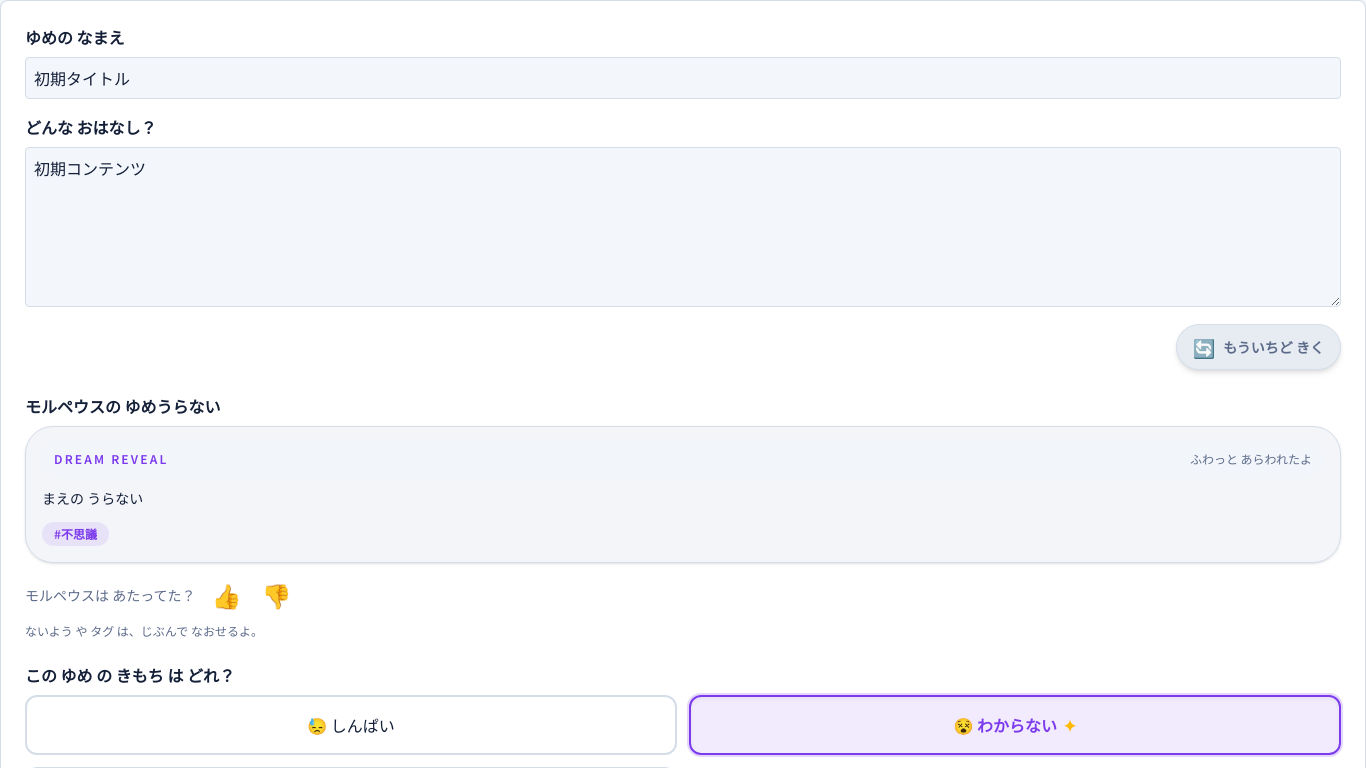
DreamForm › updates analysis text and emotion selection immediately after re-analysis in edit mode
The width and height of the screenshot is (1366, 768).
Expected: the text "まえの うらない" is shown, [42,488,143,508]
Expected: the checkbox labelled "😵 わからない" is checked, [689,695,1341,755]
Click the button "🔄 もういちど きく" at point(1258, 347), box [1176,324,1341,370]
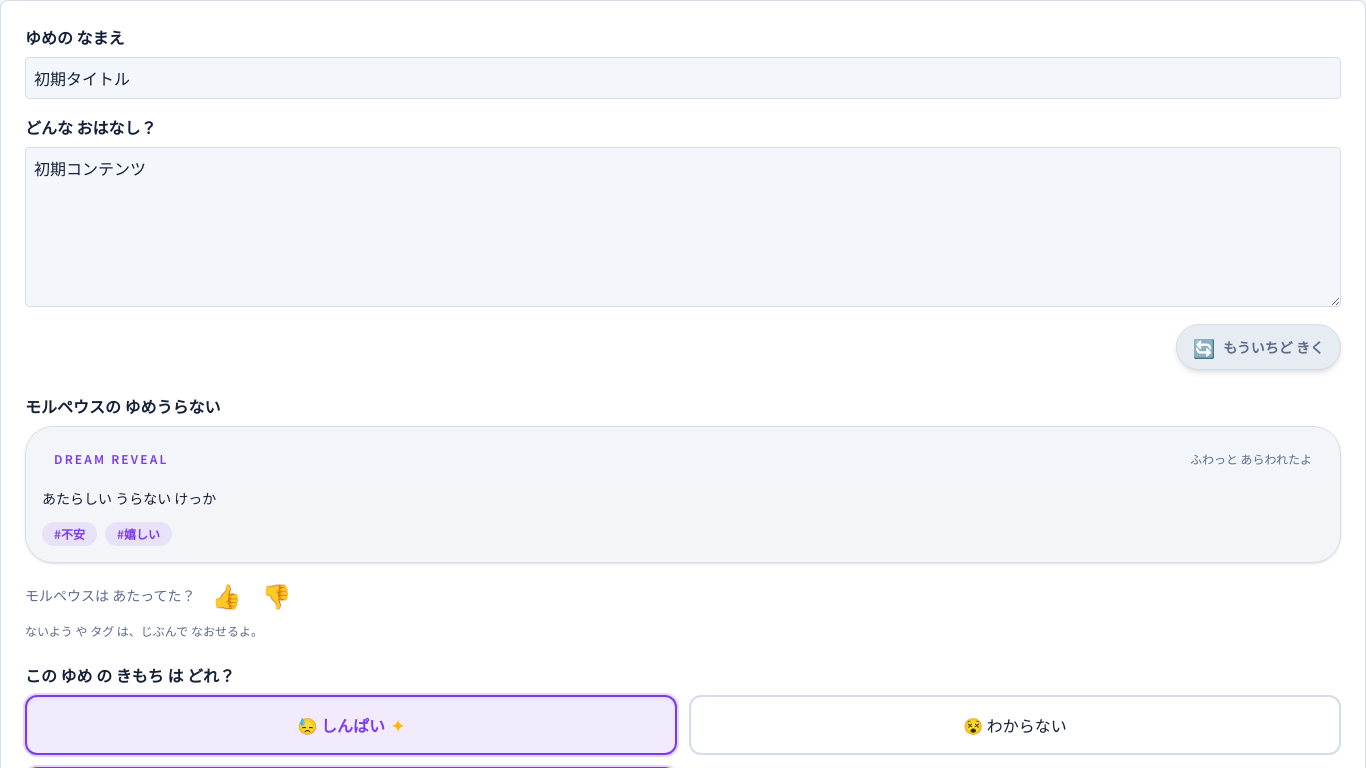
Result: the text "あたらしい うらない けっか" is shown at [42,488,216,508]
Result: the checkbox labelled "😓 しんぱい" is checked at [25,695,677,755]
Result: the checkbox labelled "😵 わからない" is not checked at [689,695,1341,755]
